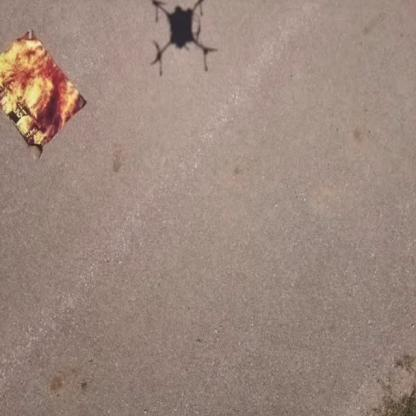fire-poster: (0, 28, 87, 160)
